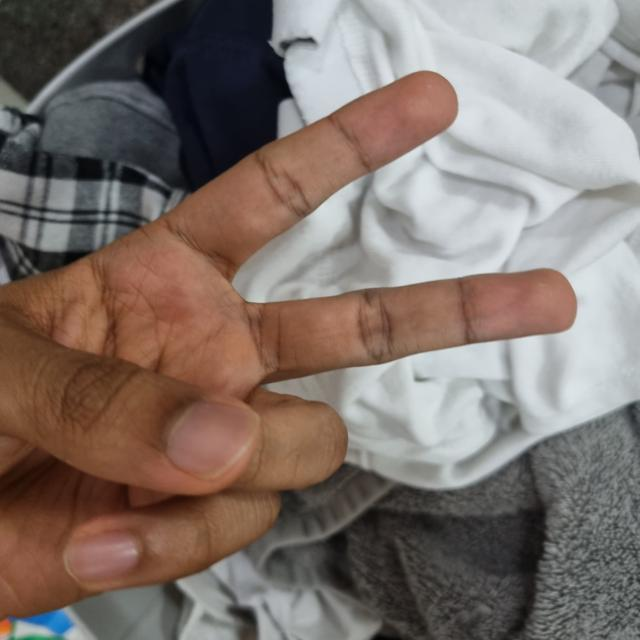Scissors: (0, 72, 572, 638)
